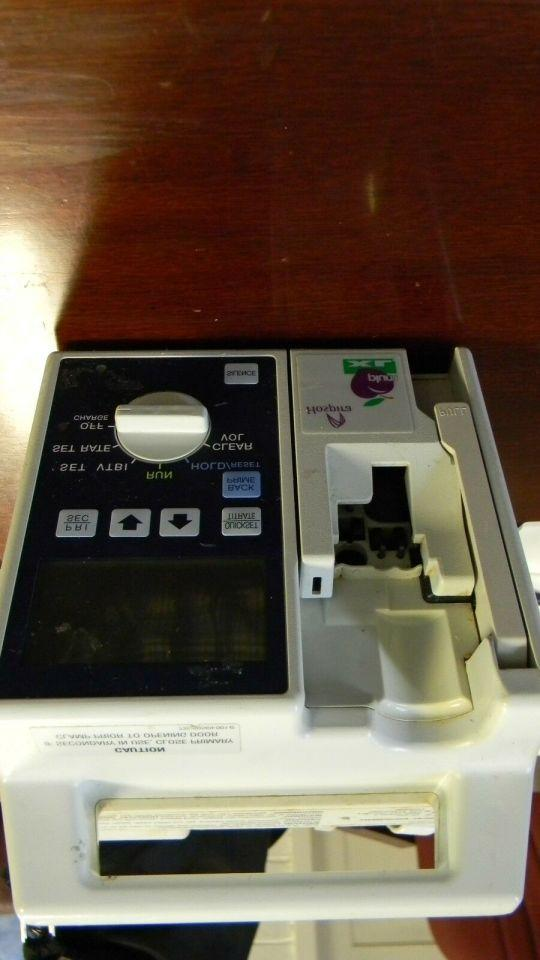plumxl1: (2, 329, 535, 926)
